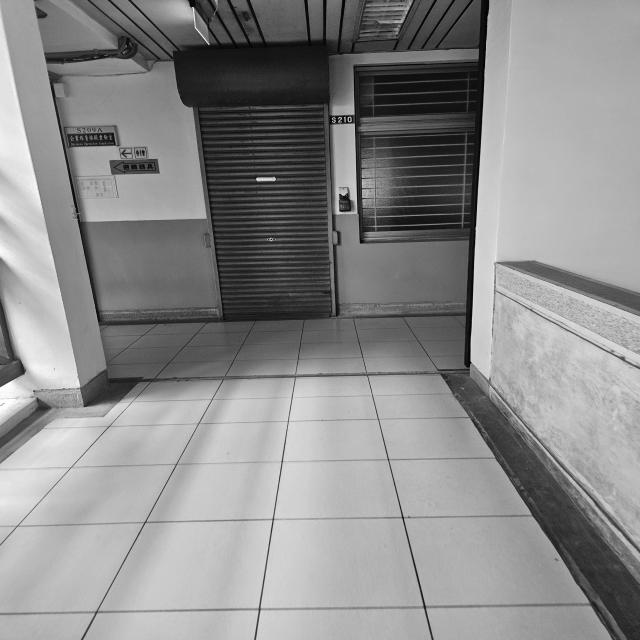Road-Object: (0, 317, 640, 640)
